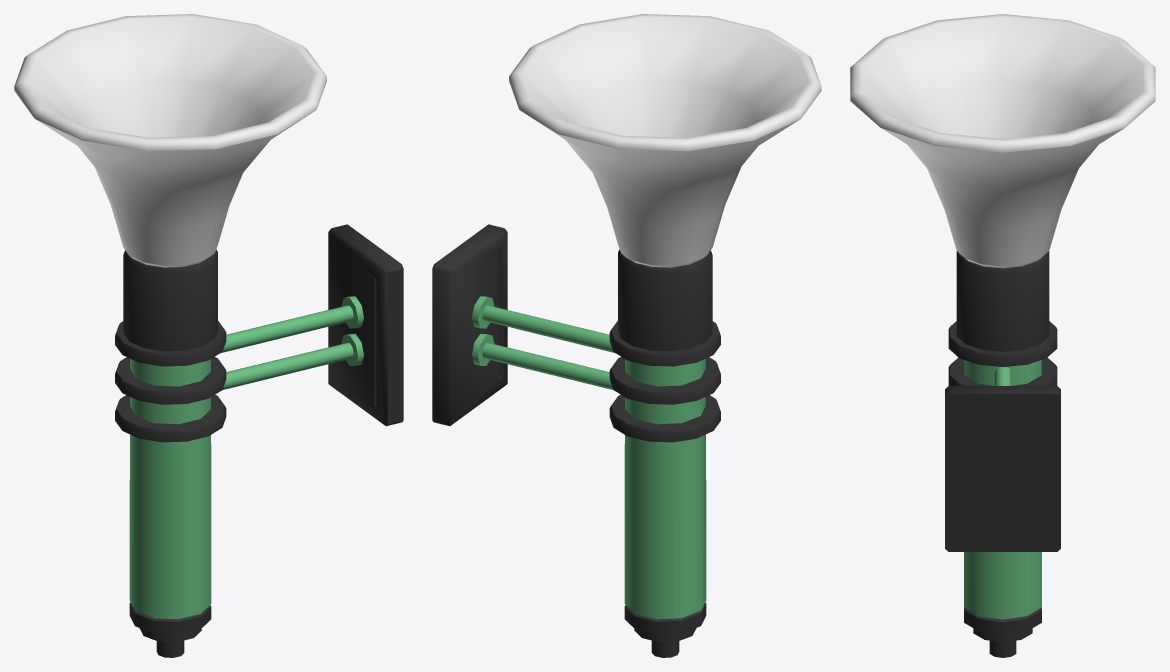
Rendered from LightSide04.FBX.
3 views of the same model, side by side, from view 1: azimuth 30°, elevation 25°; view 2: azimuth 150°, elevation 25°; view 3: azimuth 270°, elevation 25° (orthographic).
Visible parts, largest first — view 1: LightSide04; view 2: LightSide04; view 3: LightSide04.
Part boxes in pixels (x1,y1,x2,y2): LightSide04: [14, 14, 403, 657]; LightSide04: [432, 14, 821, 657]; LightSide04: [850, 14, 1155, 657].
Bounding box in the file's own units: 31.61 × 24.64 × 51.06.
